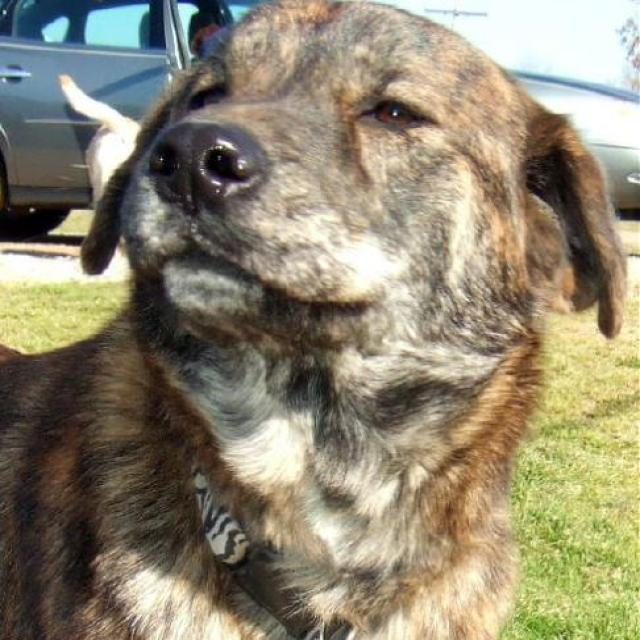Dogs: (0, 0, 628, 639)
